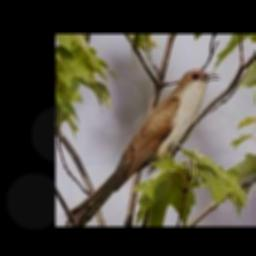Cuckoo: (64, 69, 221, 227)
